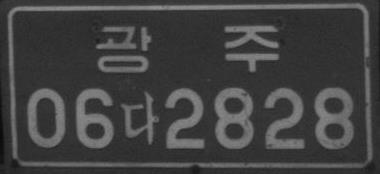0: (25, 86, 67, 150)
2: (263, 85, 306, 150), (163, 86, 206, 150)
6: (73, 86, 115, 151)
8: (212, 85, 255, 151), (313, 86, 354, 150)
광주_D: (95, 22, 282, 75)
다: (121, 90, 160, 145)
